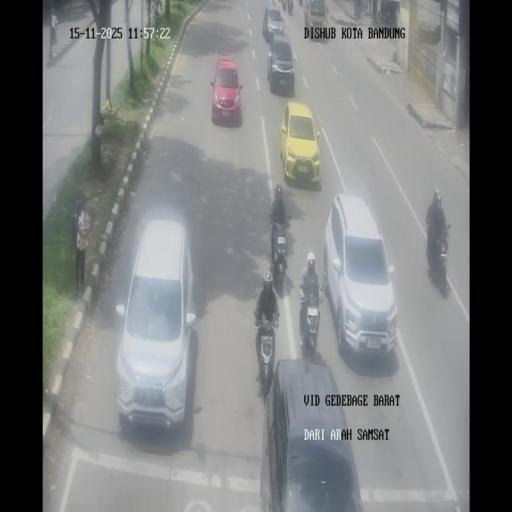car: (114, 218, 196, 434), (260, 356, 364, 508), (326, 194, 398, 358), (280, 101, 321, 187), (210, 57, 243, 126), (266, 32, 296, 95), (304, 0, 328, 38), (262, 6, 284, 41)
motorcycle: (253, 312, 278, 397), (426, 218, 450, 296), (300, 288, 324, 358), (269, 217, 290, 292), (50, 22, 58, 44)
